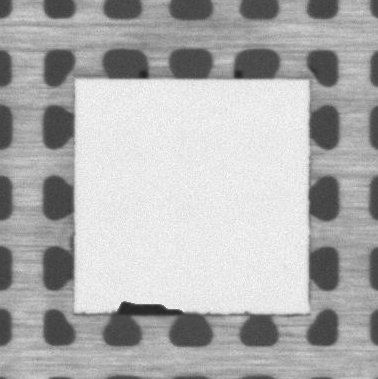DIE_BROKEN: (118, 299, 183, 315)
